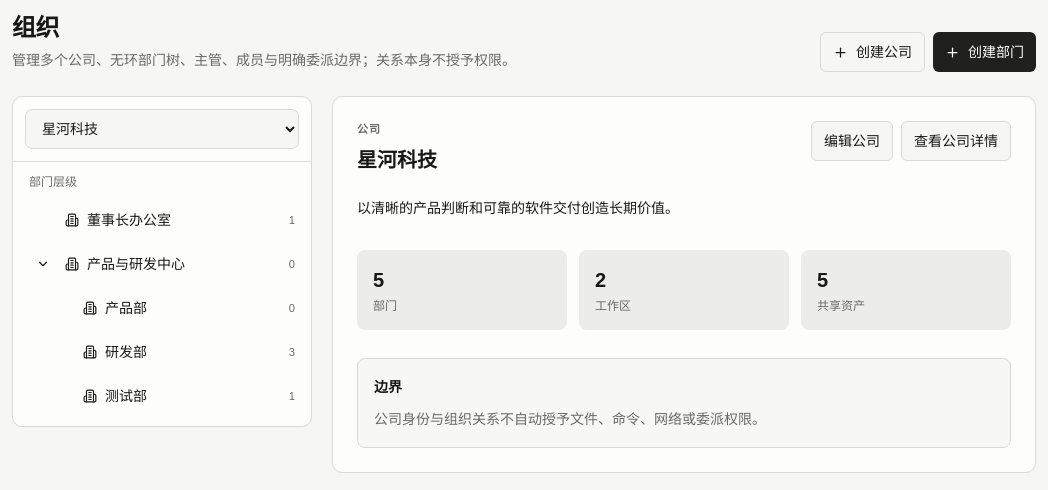
Scenario: 组织页 › 独立展开和折叠部门，不改变右侧 Company 概览
This screenshot has width=1048, height=490.
Check: the button "产品部 0" is shown, box left=83, top=286, right=295, bottom=330
Click the 5th button at (43, 264), box left=21, top=242, right=65, bottom=286
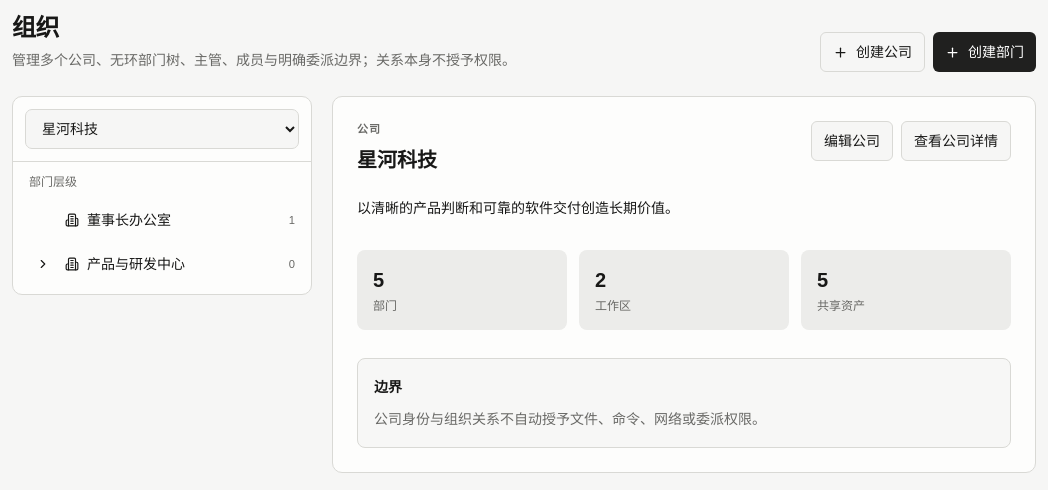
Check: the text "以清晰的产品判断和可靠的软件交付创造长期价值。" is shown, box left=357, top=200, right=679, bottom=216
Check: the button "产品部" is gone
